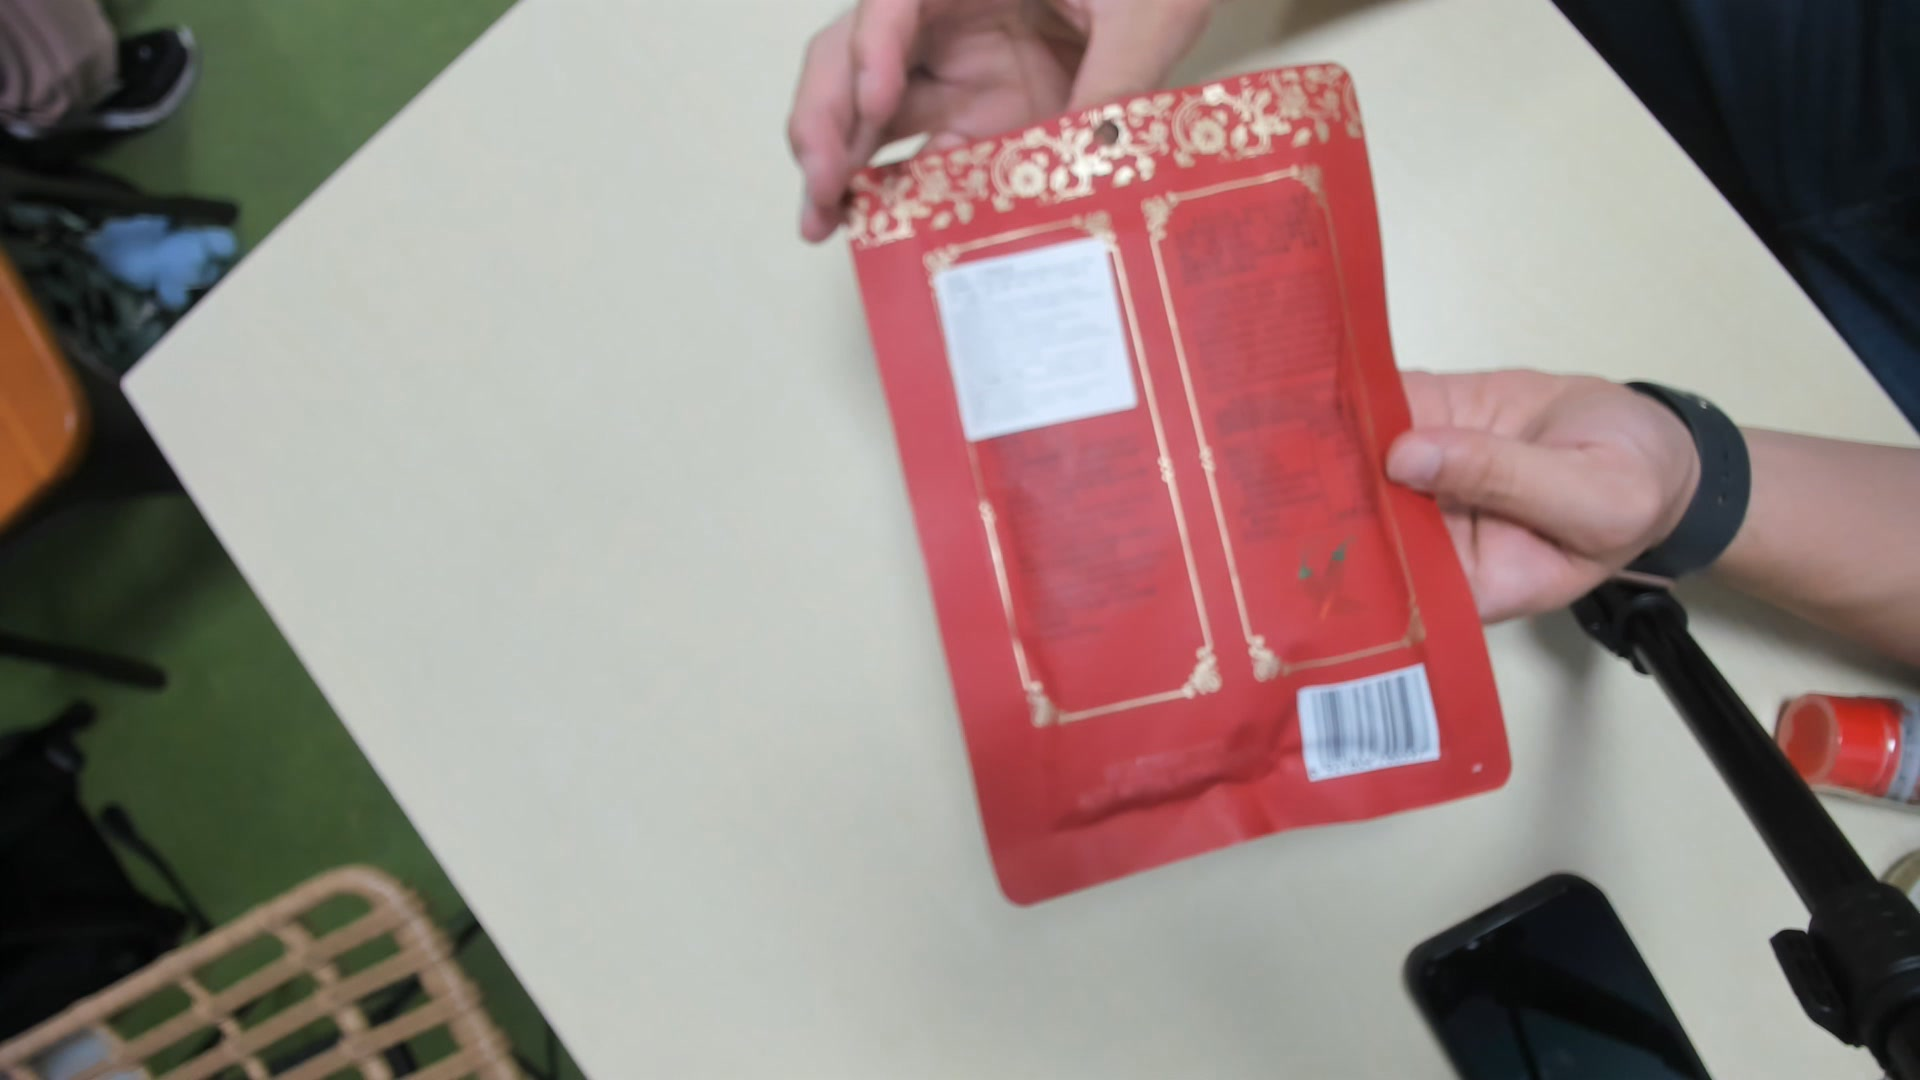OtherSauceDressing_100-199g_NonHalal_NonHealthy: (858, 88, 1513, 899)
